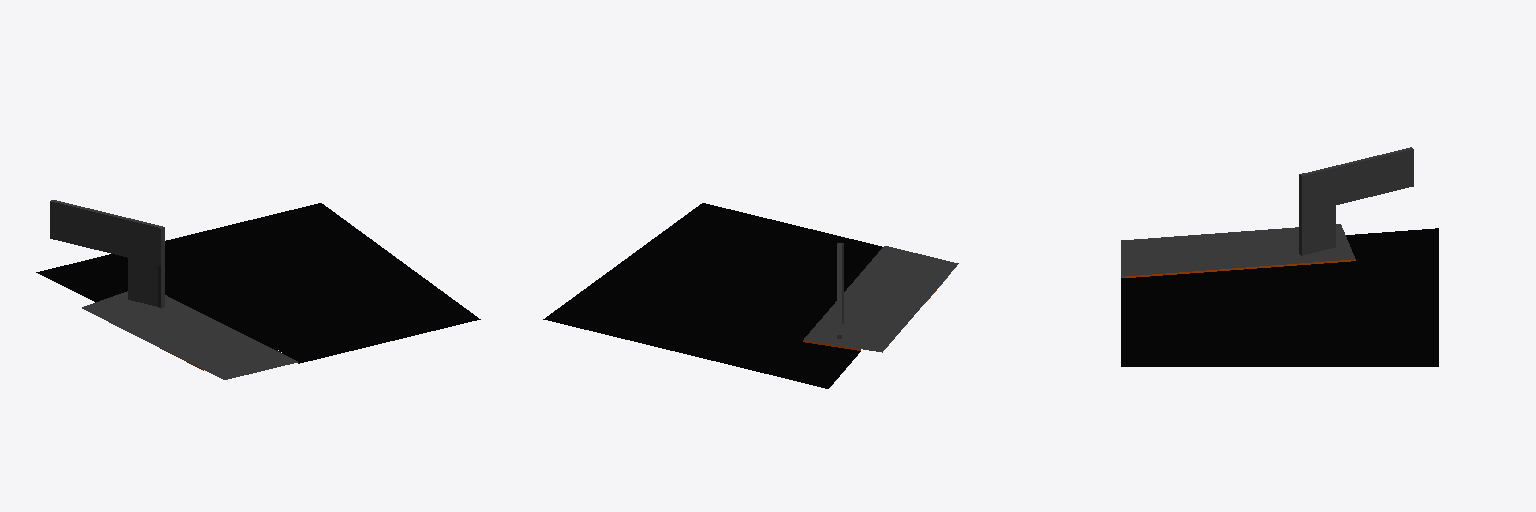
The model's file is 16_gign.obj.
The picture shows the model from 3 angles: view 1: azimuth 30°, elevation 25°; view 2: azimuth 150°, elevation 25°; view 3: azimuth 270°, elevation 25°; orthographic projection.
Parts seen in each view (by area): view 1: 16_gign_Grid.035; view 2: 16_gign_Grid.035; view 3: 16_gign_Grid.035.
Part boxes in pixels (bbox=[...]): 16_gign_Grid.035: bbox=[36, 200, 480, 379]; 16_gign_Grid.035: bbox=[543, 203, 958, 388]; 16_gign_Grid.035: bbox=[1121, 147, 1438, 366].
Size of the model in its own units: 16.8 by 4.5 by 16.